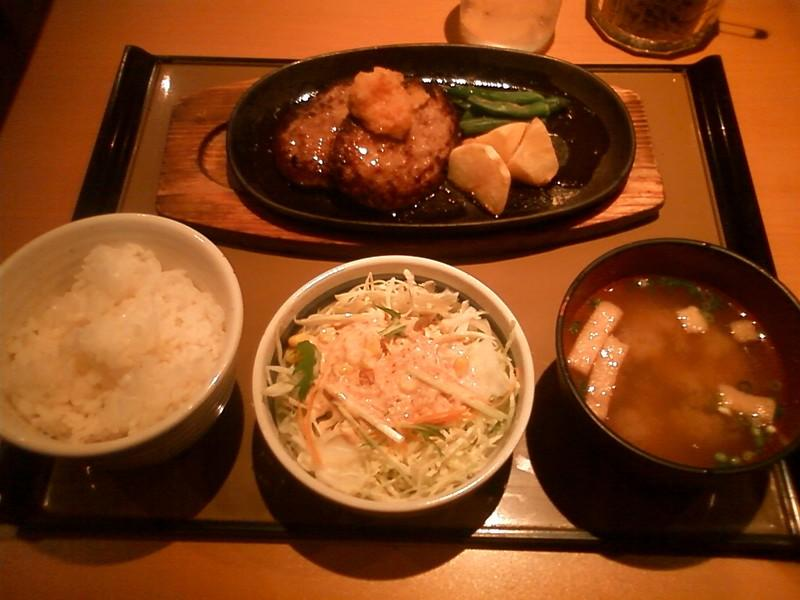rice: (0, 244, 224, 445)
